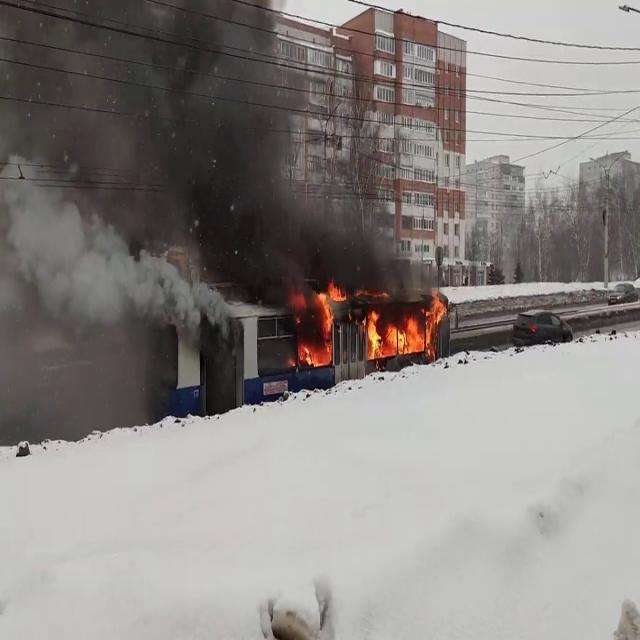Fire: (362, 292, 450, 360), (294, 281, 346, 367)
Smoke: (0, 0, 424, 316)
